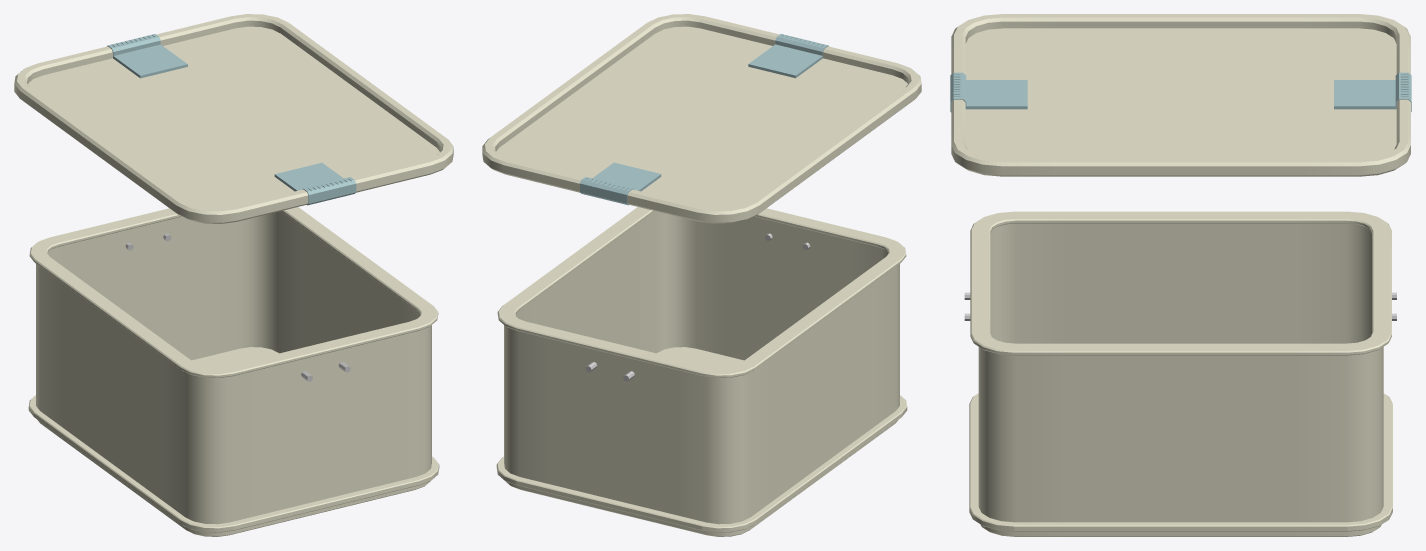
The model's file is 醫藥箱.dae.
The picture shows the model from 3 angles, left to right: view 1: azimuth 30°, elevation 25°; view 2: azimuth 150°, elevation 25°; view 3: azimuth 270°, elevation 25°; orthographic projection. The views are drawn at different scales.
Visible parts, largest first — view 1: 扫描.2, 封顶_1.1, 扫描.3, 扫描.1, 立方体_连接 (×2), 封顶_1, 挤压, 平滑_1; view 2: 扫描.2, 封顶_1.1, 扫描.3, 扫描.1, 立方体_连接 (×2), 封顶_1, 挤压, 平滑_1; view 3: 扫描.2, 封顶_1.1, 扫描.3, 扫描.1, 立方体_连接 (×2), 封顶_1, 挤压, 平滑_1.
Part boxes in pixels (x1,y1,x2,y2): 扫描.2: (36, 211, 431, 536); 封顶_1.1: (28, 26, 439, 208); 扫描.3: (14, 14, 453, 223); 扫描.1: (29, 207, 438, 377); 立方体_连接 (×2): (107, 34, 356, 205); 封顶_1: (29, 347, 438, 526); 挤压: (28, 407, 439, 532); 平滑_1: (29, 400, 438, 528); 扫描.2: (504, 211, 899, 536); 封顶_1.1: (496, 26, 907, 208); 扫描.3: (482, 14, 921, 223); 扫描.1: (497, 207, 906, 377); 立方体_连接 (×2): (580, 34, 828, 205); 封顶_1: (497, 347, 906, 526); 挤压: (496, 407, 907, 532); 平滑_1: (497, 400, 906, 528); 扫描.2: (978, 223, 1383, 536); 封顶_1.1: (965, 28, 1396, 158); 扫描.3: (951, 14, 1410, 176); 扫描.1: (970, 211, 1391, 355); 立方体_连接 (×2): (950, 72, 1411, 112); 封顶_1: (970, 393, 1391, 525); 挤压: (969, 508, 1392, 530); 平滑_1: (969, 396, 1392, 526).
Bounding box in the file's own units: 7.21 × 8.53 × 9.32.
